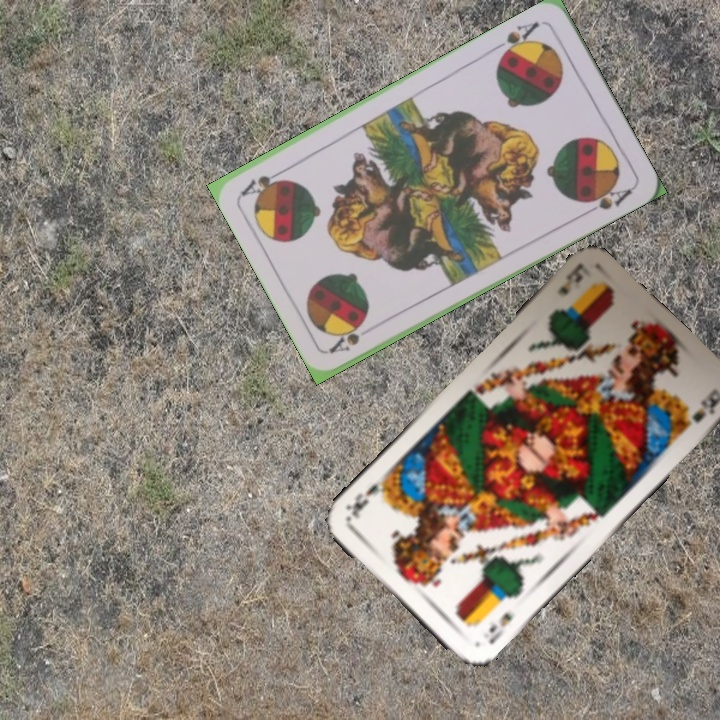EK: (484, 608, 516, 647), (553, 263, 586, 298)
SA: (490, 17, 542, 62), (325, 320, 366, 356)
